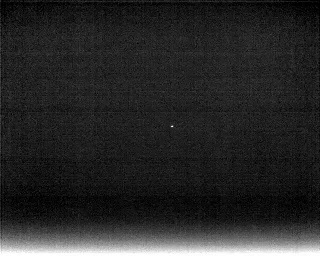AIRPLANE: (168, 122, 176, 131)
